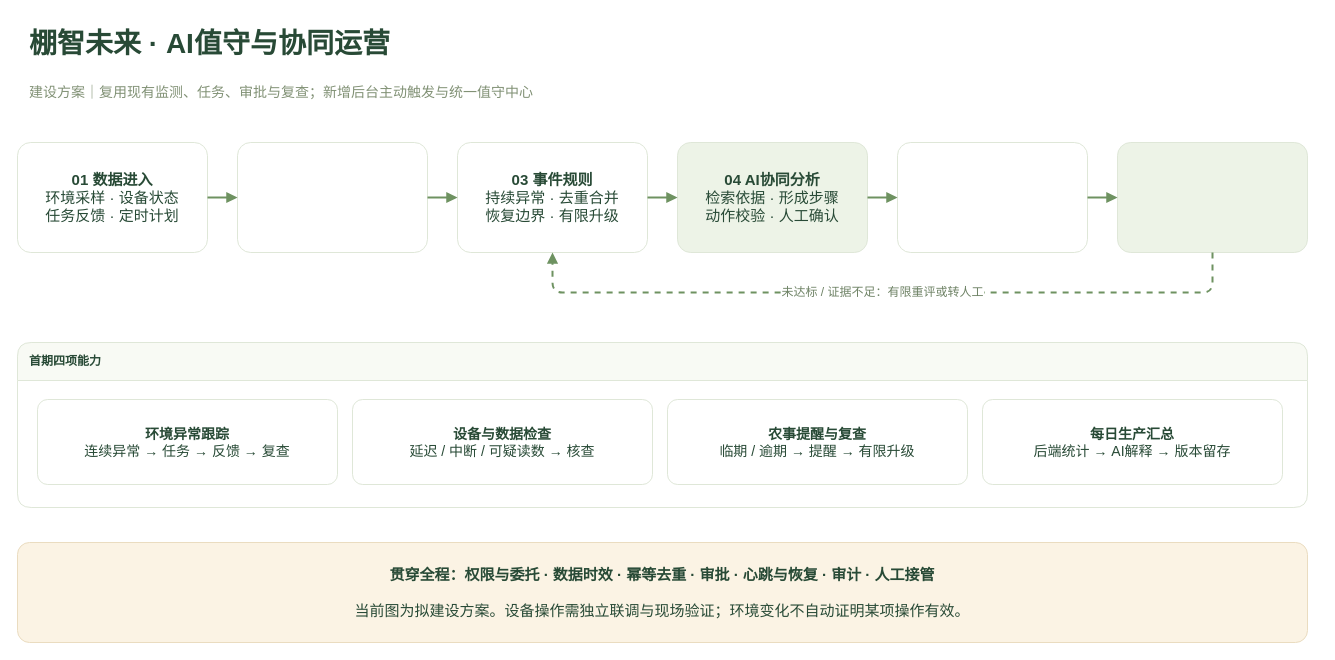
The diagram is 1335 pixels wide and 660 high, and some of its shapes have lost their labels. Here are the shapes that lost their labels. From the top down, the centre of each, then its label:
At point 332,197: "02 质量与权限 归属 · 时间 · 单位 有效性 · 采样连续性".
At point 992,197: "05 执行与记录 首期：任务与站内通知 二期：受控设备接口".
At point 1212,197: "06 复查与汇总 有效新数据 · 现场反馈 恢复 / 转人工 · 日报".
